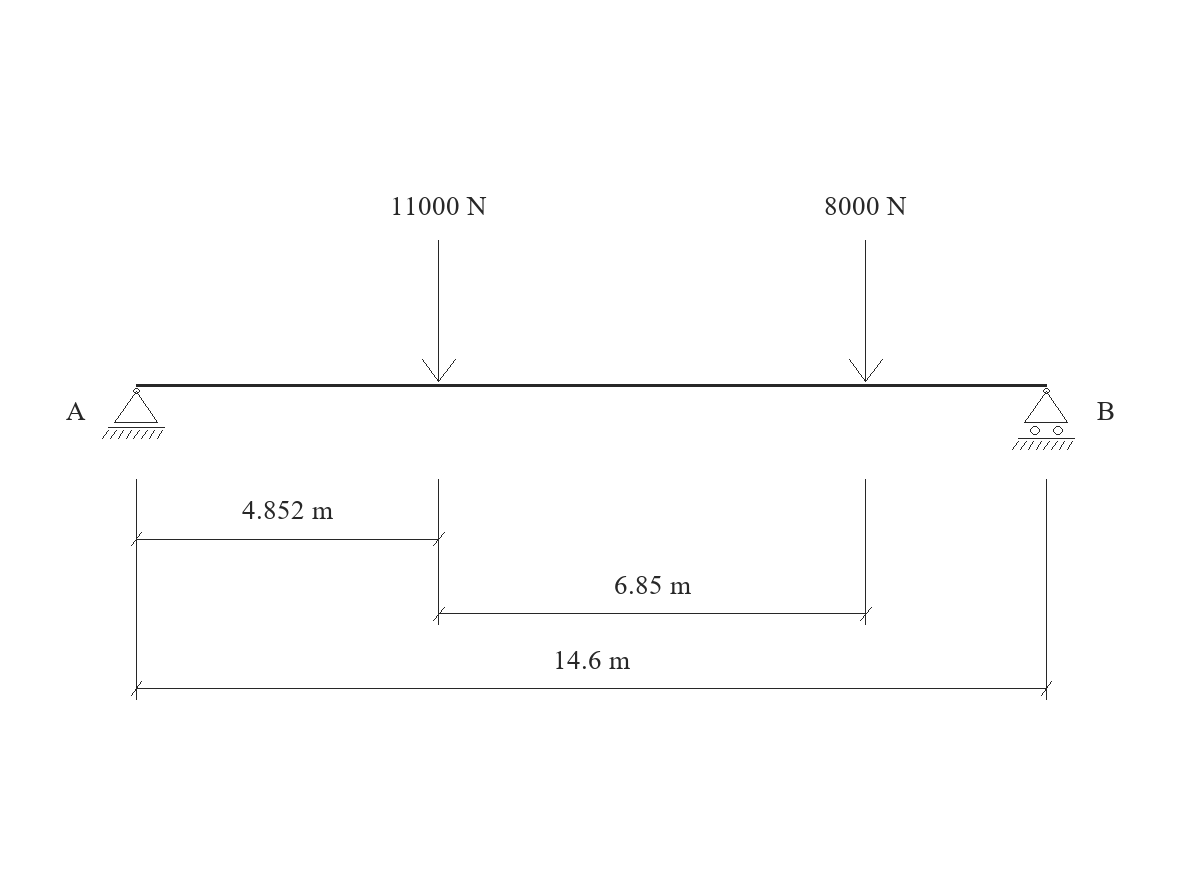pin_support: (102, 388, 165, 439)
point_load: (422, 240, 456, 382), (849, 240, 883, 382)
roller_support: (1012, 388, 1075, 450)
